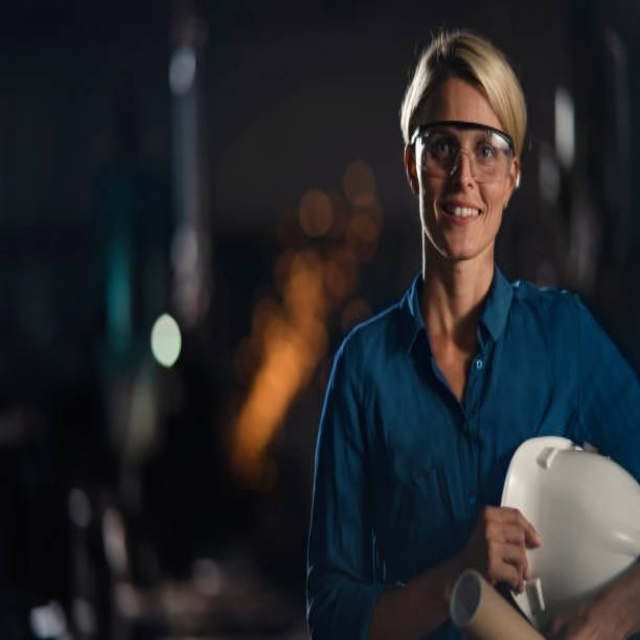Gafas: (412, 121, 516, 182)
Sin_guantes: (468, 502, 544, 595)
Sin_mascara: (433, 191, 486, 248)
